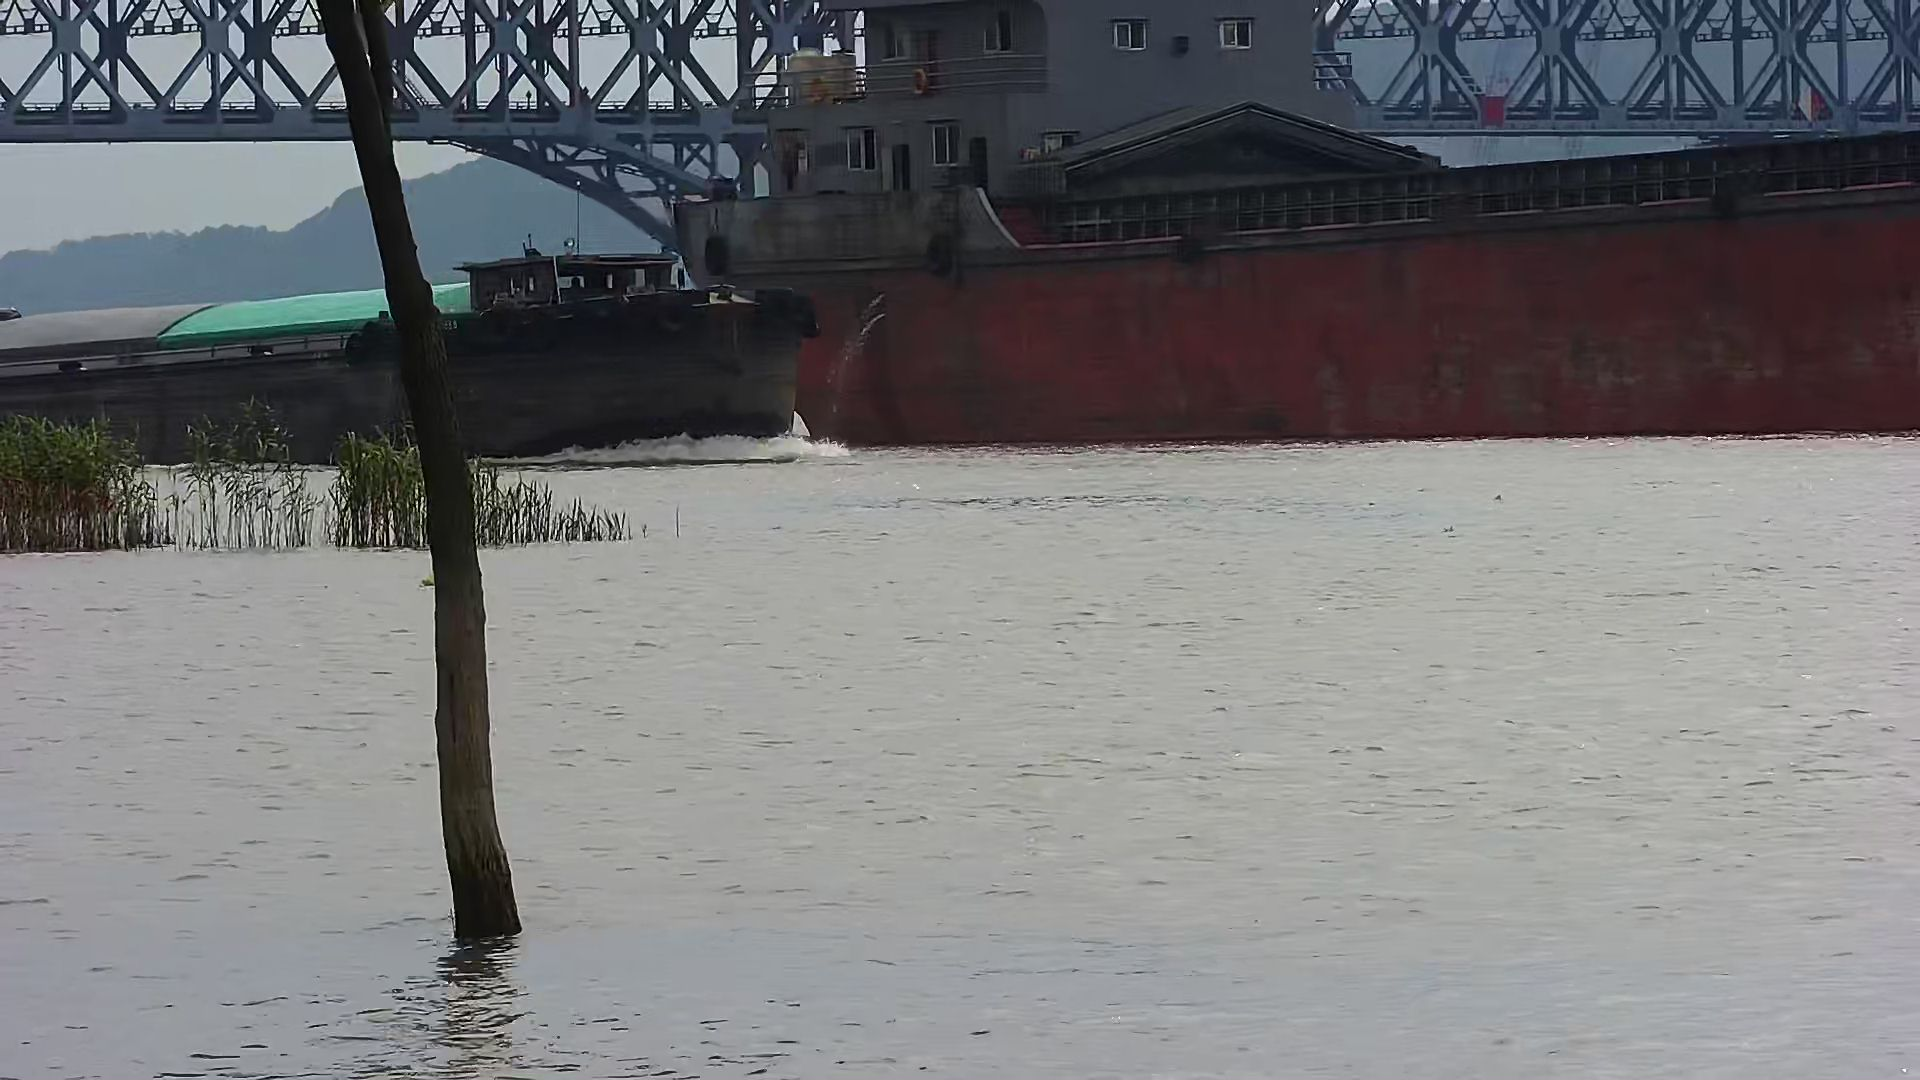bridge: (1, 4, 1920, 243)
grass: (1, 406, 646, 551)
ship: (675, 3, 1920, 448), (1, 248, 818, 462)
tree: (320, 3, 516, 934)
